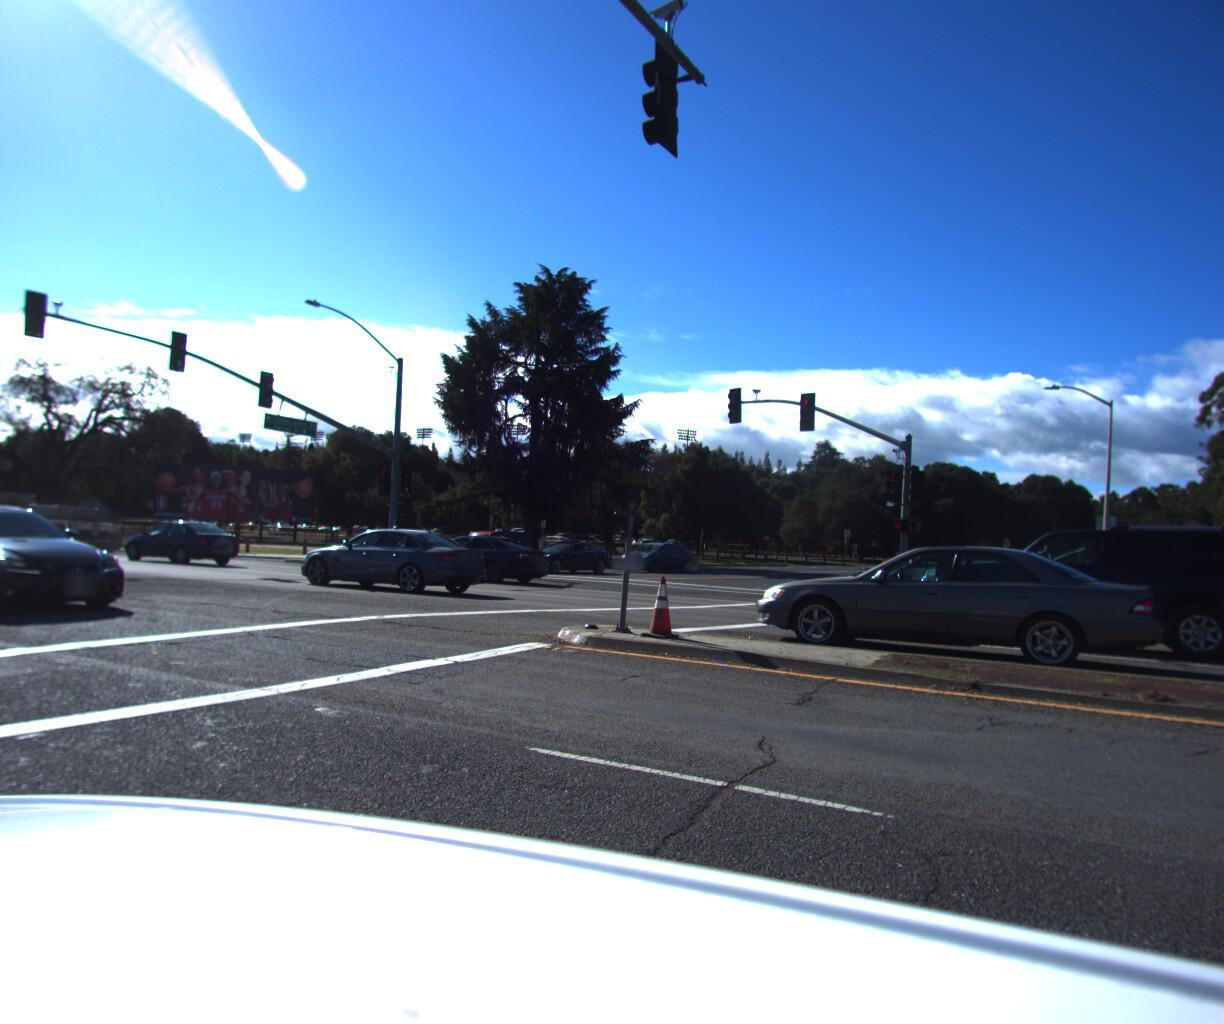bicycle: (850, 534, 920, 596)
car: (732, 534, 1185, 683), (891, 513, 1224, 672), (966, 532, 1224, 655), (0, 495, 131, 621), (290, 519, 504, 592), (397, 526, 552, 578), (107, 520, 240, 565), (429, 520, 548, 565), (505, 533, 617, 569), (607, 532, 699, 568), (1214, 571, 1224, 651)
truck: (0, 475, 132, 565)
